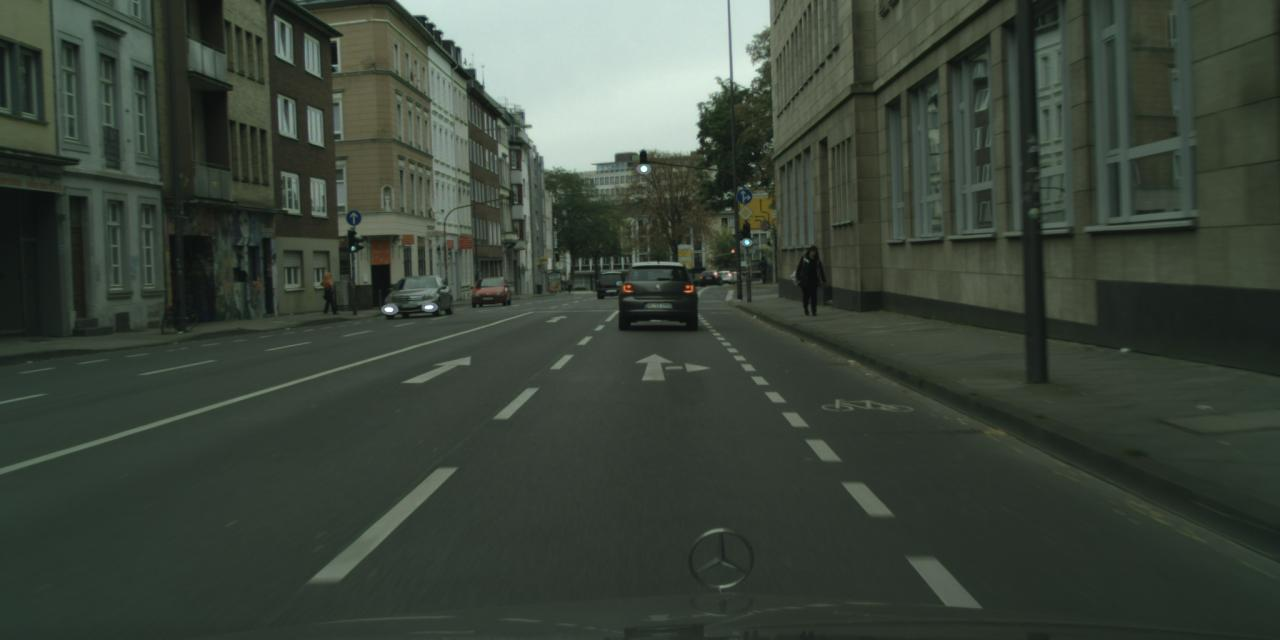ped: (798, 244, 826, 314), (320, 271, 337, 314), (759, 255, 770, 283), (566, 276, 572, 292)
